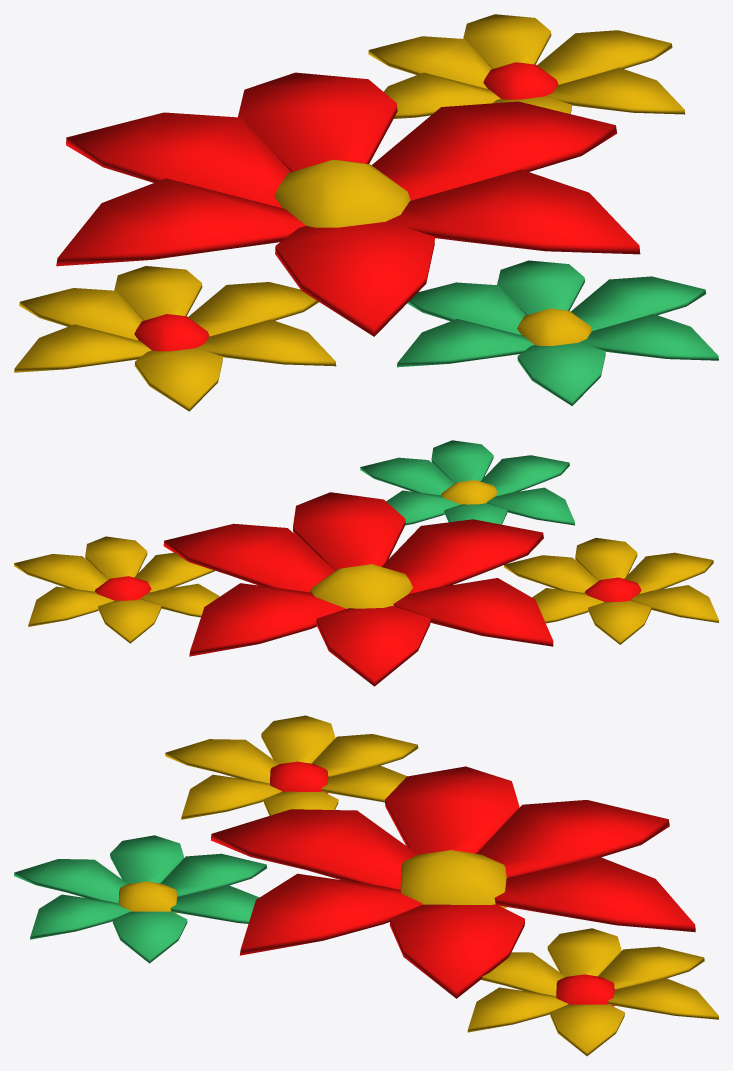
The model's file is SM_Flowers_01.fbx.
The picture shows the model from 3 angles, top to bottom: view 1: azimuth 30°, elevation 25°; view 2: azimuth 150°, elevation 25°; view 3: azimuth 270°, elevation 25°; orthographic projection. The views are drawn at different scales.
Visible parts, largest first — view 1: SM_Flowers_01; view 2: SM_Flowers_01; view 3: SM_Flowers_01.
Part boxes in pixels (x1,y1,x2,y2): SM_Flowers_01: [14, 14, 718, 411]; SM_Flowers_01: [14, 440, 718, 686]; SM_Flowers_01: [14, 715, 718, 1056].
Size of the model in its own units: 45.13 by 2.18 by 39.77.
Materials: 1 (1 with a texture image).
